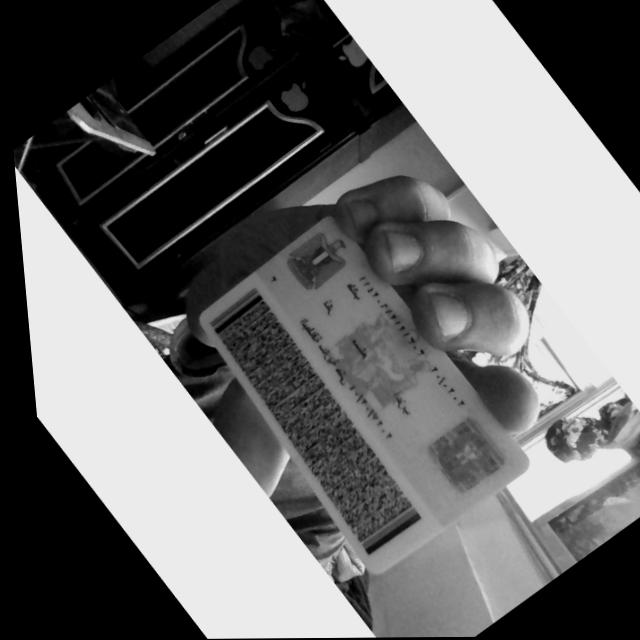id_card: (201, 217, 528, 574)
